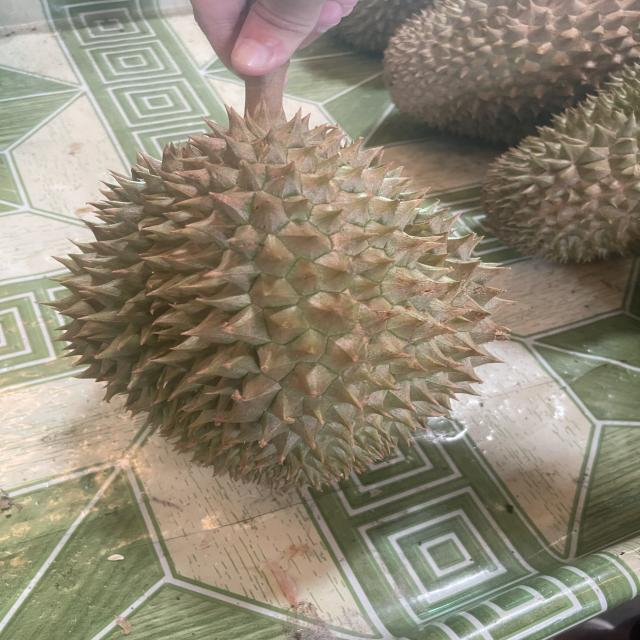mature: (46, 109, 522, 504), (364, 1, 640, 129), (485, 54, 636, 284)
